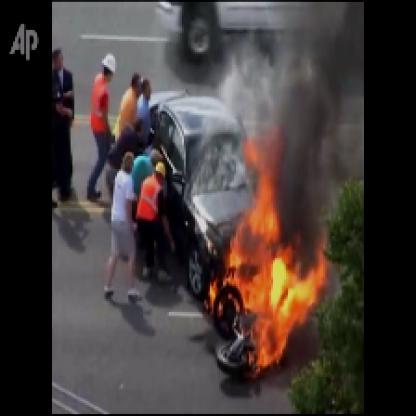Fire: (200, 119, 332, 381)
Smoke: (258, 2, 359, 212)
